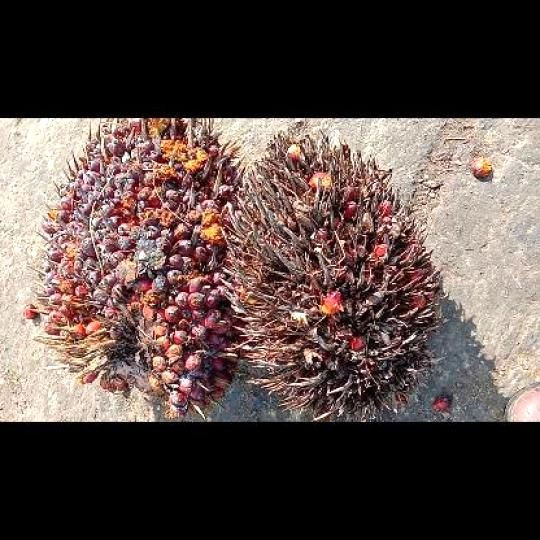masak: (29, 118, 246, 419)
terlalu masak: (219, 125, 446, 420)
